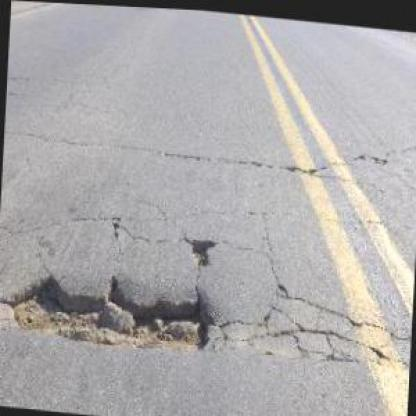pothole: (3, 261, 222, 355), (187, 232, 218, 266)
